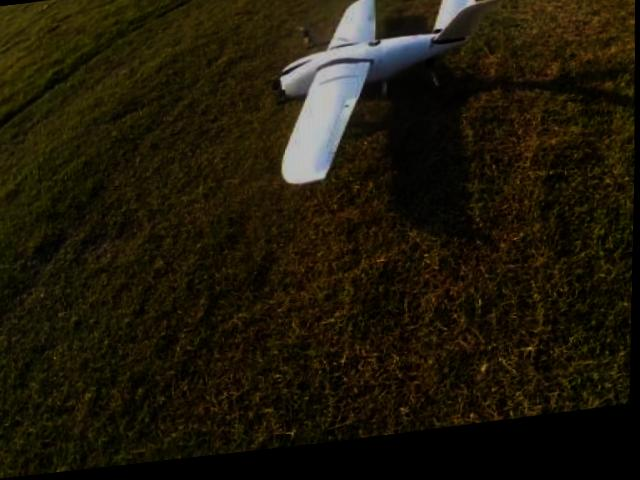uav: (263, 0, 511, 214)
